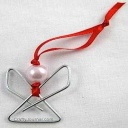Metal: (0, 60, 77, 128)
